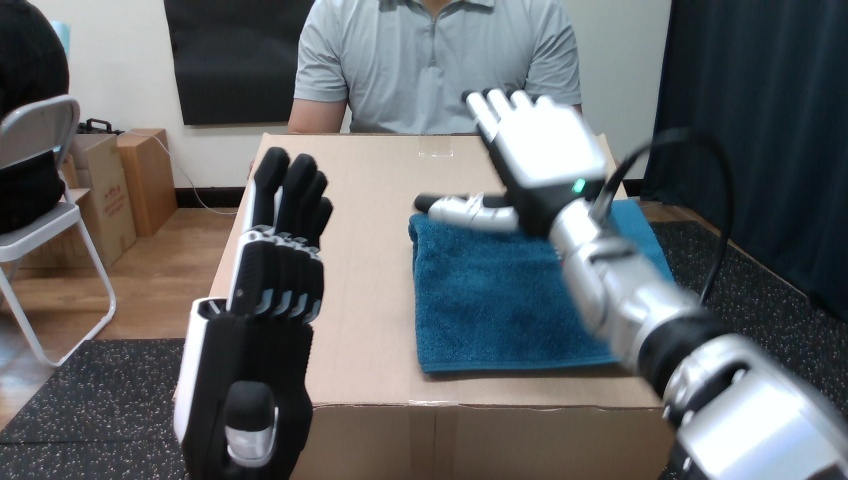left robot hand: (415, 89, 847, 478), (174, 147, 331, 478), (607, 139, 727, 298)
